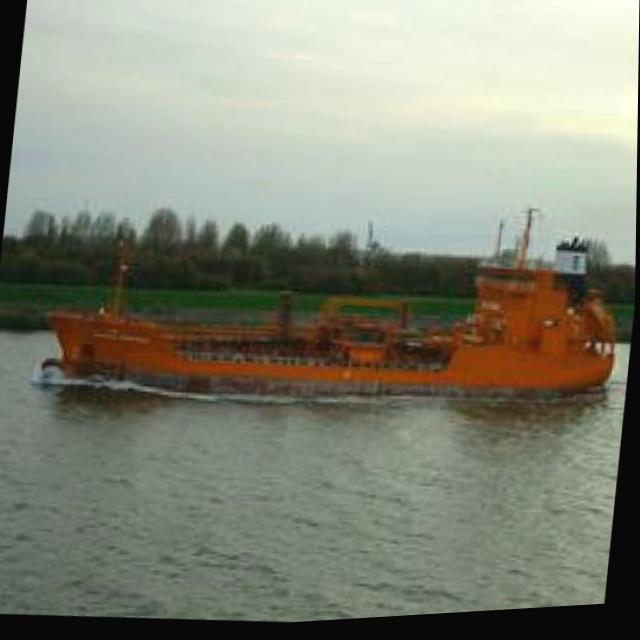ship2: (39, 215, 616, 412)
